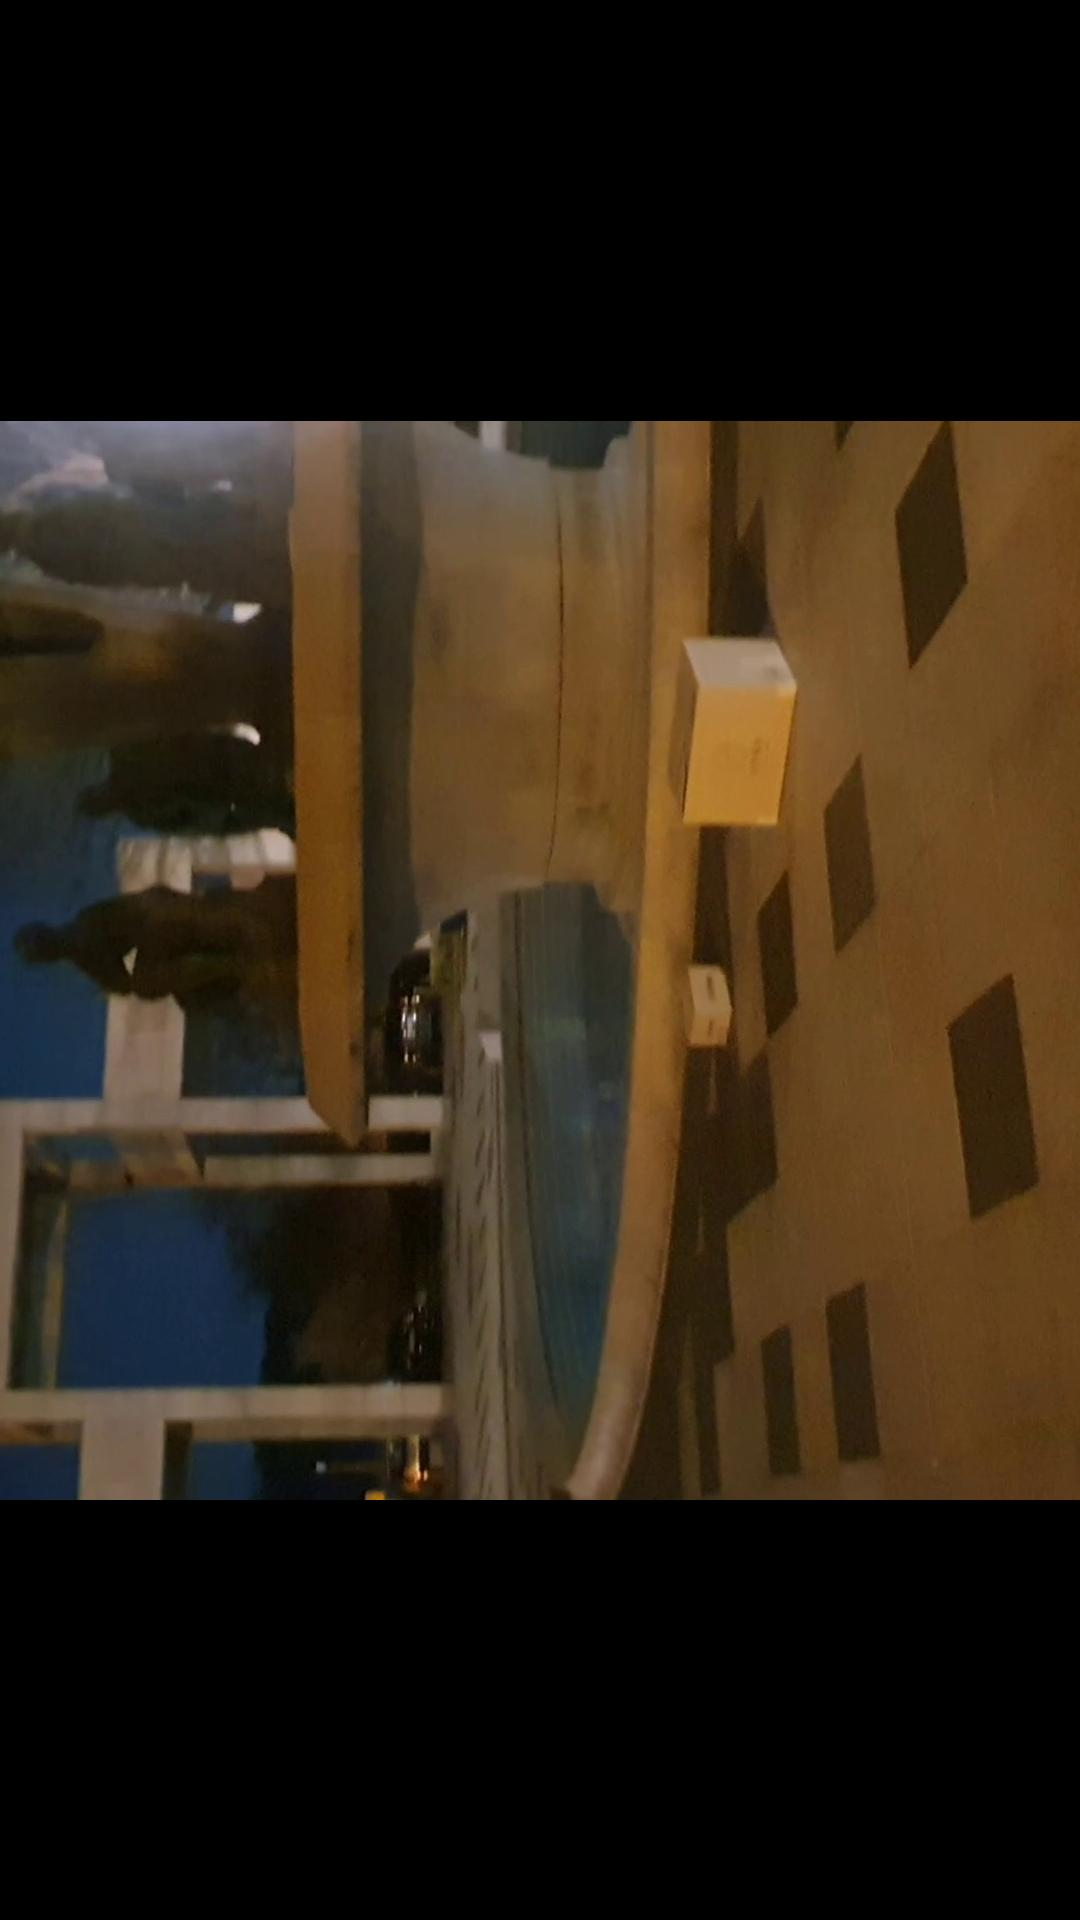Box: (663, 633, 798, 833), (665, 949, 745, 1058)
